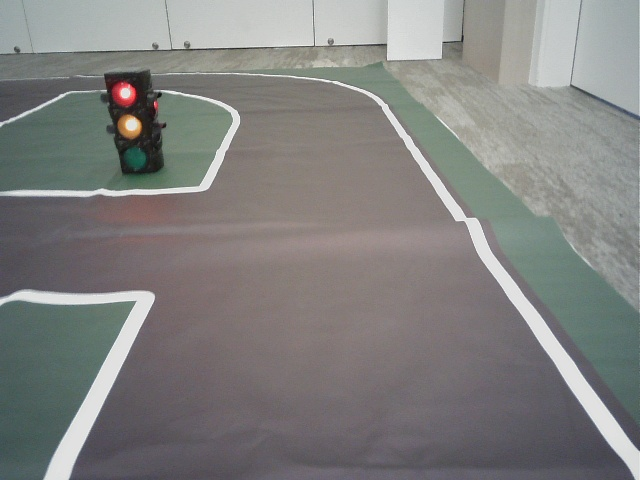red: (108, 75, 150, 172)
